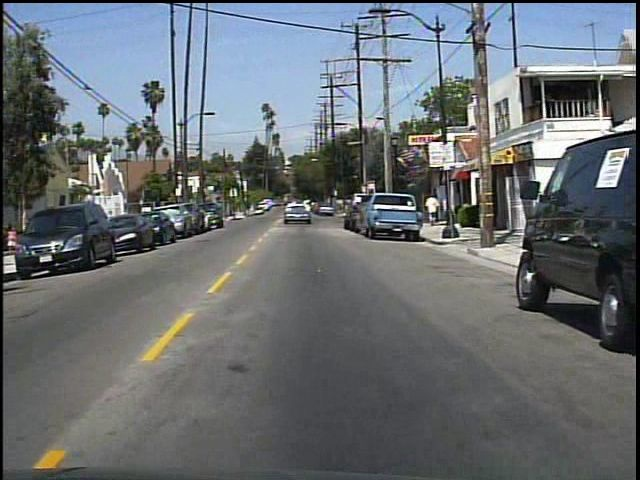person: (425, 190, 444, 229)
